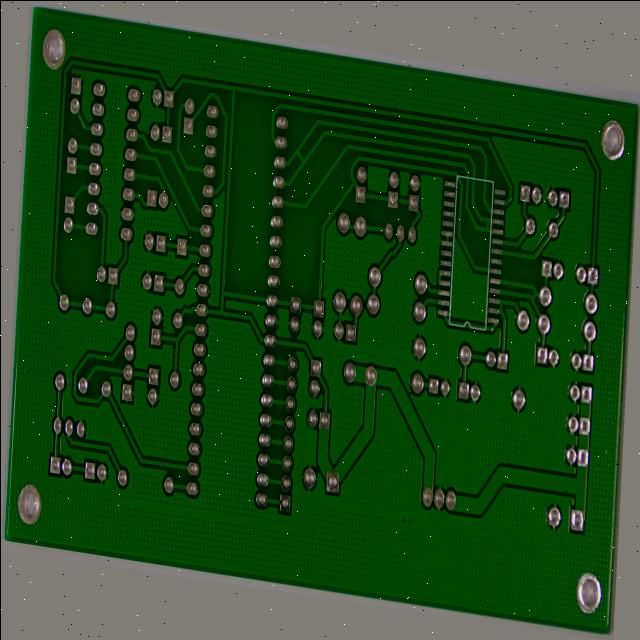short: (282, 117, 297, 146), (501, 264, 512, 286), (535, 243, 546, 262), (485, 170, 493, 193)
